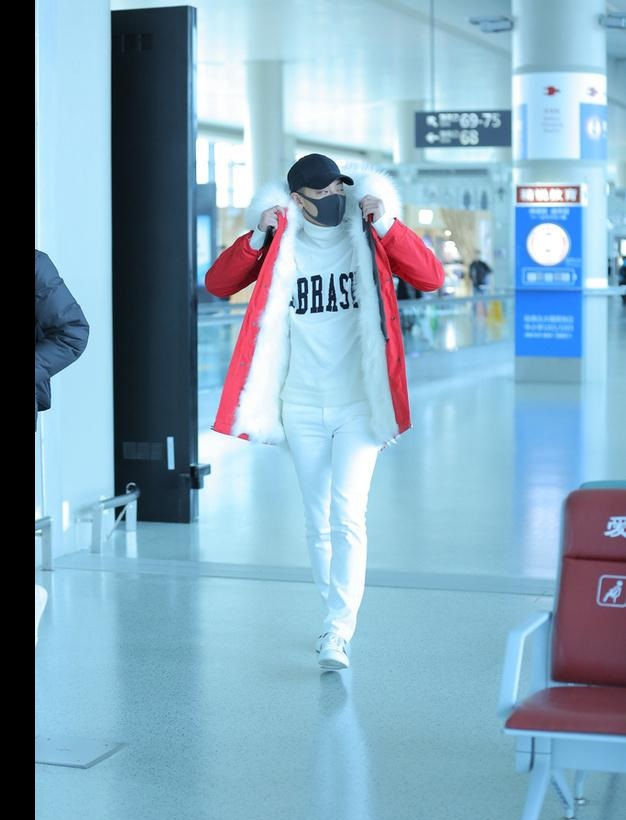face_mask: (296, 190, 348, 227)
